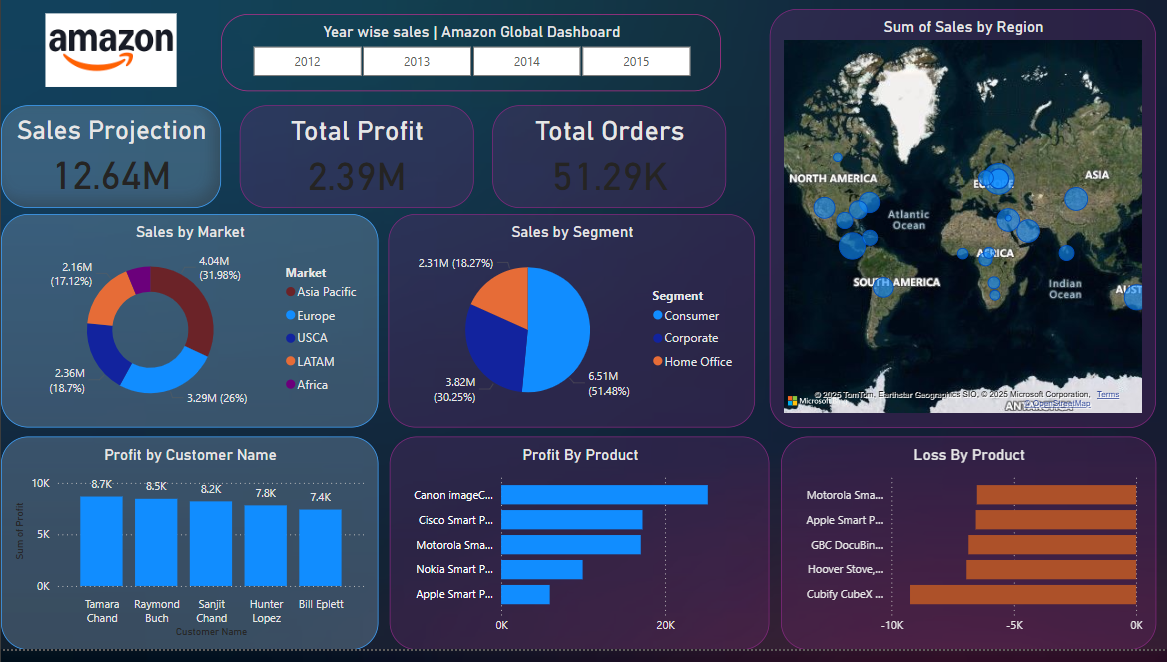

Layout of this report page (visuals, bound fields, positions):
{"tool":"powerbi","page":{"name":"Page 1","canvas":[1280,720],"ordinal":0},"visuals":[{"type":"slicer","title":"Year wise sales | Amazon Global Dashboard","fields":{"Values":["Orders.Year"]},"box":[241.5,22,548.9,85.1],"z":0},{"type":"pieChart","title":"Sales by Segment","fields":{"Category":["Orders.Segment"],"Y":["Orders.Sales"]},"box":[425.4,241.5,402.1,234.6],"z":1000},{"type":"donutChart","title":"Sales by Market","fields":{"Category":["Orders.Market"],"Y":["Orders.Sales"]},"box":[0,241.5,414.4,234.6],"z":2000},{"type":"image","box":[0,16.5,241.5,90.6],"z":3000},{"type":"card","title":"Sales Projection","fields":{"Values":["Orders.Sales"]},"box":[0,122.1,241.5,112.5],"z":4000},{"type":"card","title":"Total Profit","fields":{"Values":["Orders.Profit1"]},"box":[262.1,122.1,256.6,112.5],"z":5000},{"type":"clusteredColumnChart","title":"Profit by Customer Name","fields":{"Category":["Orders.Customer Name"],"Y":["Orders.Profit"]},"box":[0,485.8,414.4,234.6],"z":6000},{"type":"map","fields":{"Category":["Orders.Region"],"Size":["Orders.Sales"]},"box":[843.9,16.5,424,459.7],"z":7000},{"type":"clusteredBarChart","title":"Profit By Product","fields":{"Y":["Orders.Profit"],"Category":["Orders.Product Name"]},"box":[426.8,485.8,417.2,234.6],"z":8000},{"type":"clusteredBarChart","title":"Loss By Product","fields":{"Category":["Orders.Product Name"],"Y":["Orders.Loss"]},"box":[856.3,485.8,411.7,234.6],"z":9000},{"type":"card","title":"Total Orders","fields":{"Values":["Orders.Order ID"]},"box":[539.3,122.1,256.6,112.5],"z":10000}]}

Visuals, with their boxes in screenshot pixels (x1, y1, x2, y2), scaled from the page's 1280x720 canvas onto the 1167x662 screenshot:
"Year wise sales | Amazon Global Dashboard" slicer: bbox=(220, 20, 721, 98)
"Sales by Segment" pieChart: bbox=(388, 222, 754, 438)
"Sales by Market" donutChart: bbox=(0, 222, 378, 438)
image: bbox=(0, 15, 220, 98)
"Sales Projection" card: bbox=(0, 112, 220, 216)
"Total Profit" card: bbox=(239, 112, 473, 216)
"Profit by Customer Name" clusteredColumnChart: bbox=(0, 447, 378, 661)
map - Orders.Region x Orders.Sales: bbox=(769, 15, 1156, 438)
"Profit By Product" clusteredBarChart: bbox=(389, 447, 769, 661)
"Loss By Product" clusteredBarChart: bbox=(781, 447, 1156, 661)
"Total Orders" card: bbox=(492, 112, 726, 216)
